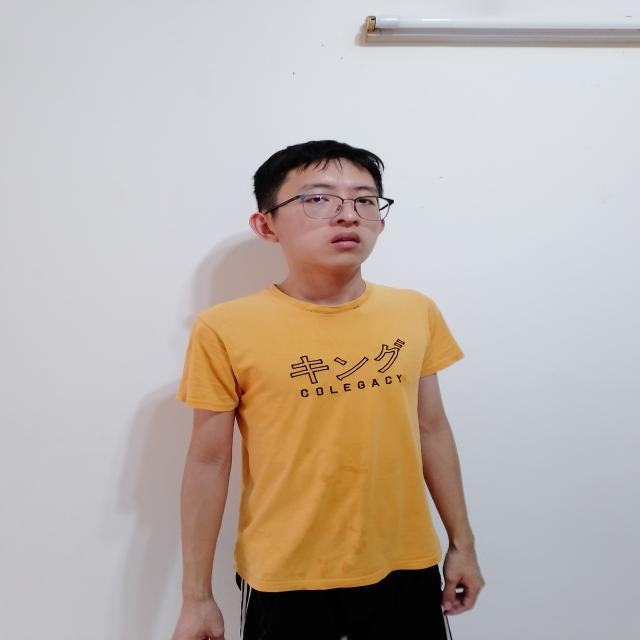person_without_labcoat: (172, 141, 484, 640)
